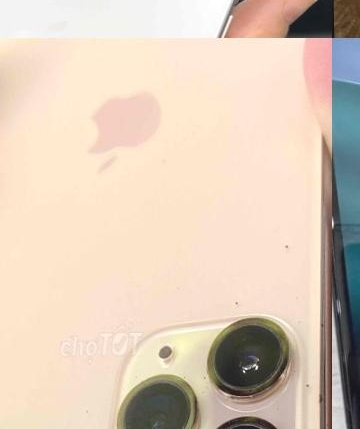scratch: (106, 354, 206, 429), (207, 310, 293, 397), (298, 365, 332, 428), (265, 224, 298, 253), (222, 292, 248, 309), (332, 294, 343, 315), (332, 208, 337, 233)
